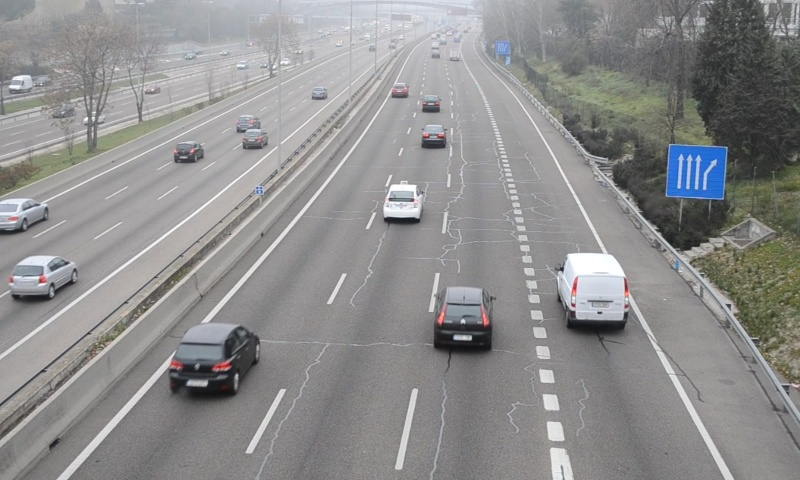car: (168, 324, 259, 392), (433, 287, 494, 347), (382, 184, 423, 218), (421, 123, 447, 148), (421, 93, 441, 114), (391, 82, 408, 96)
van: (558, 253, 629, 324)
